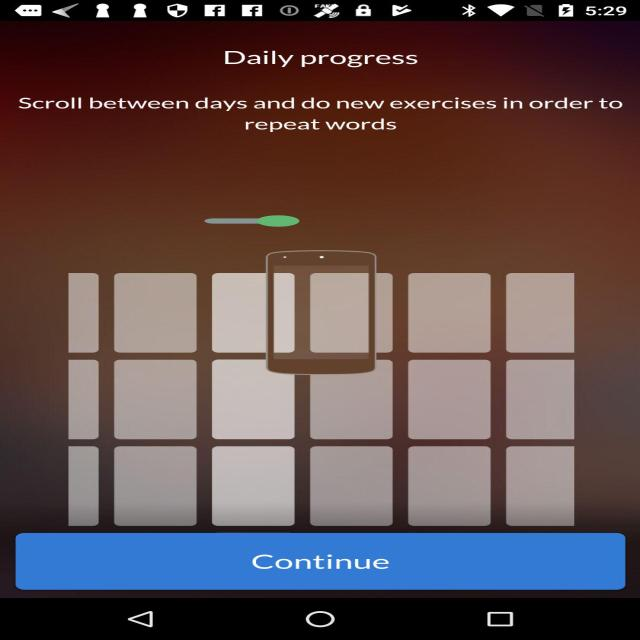social proof: (204, 208, 300, 234)
